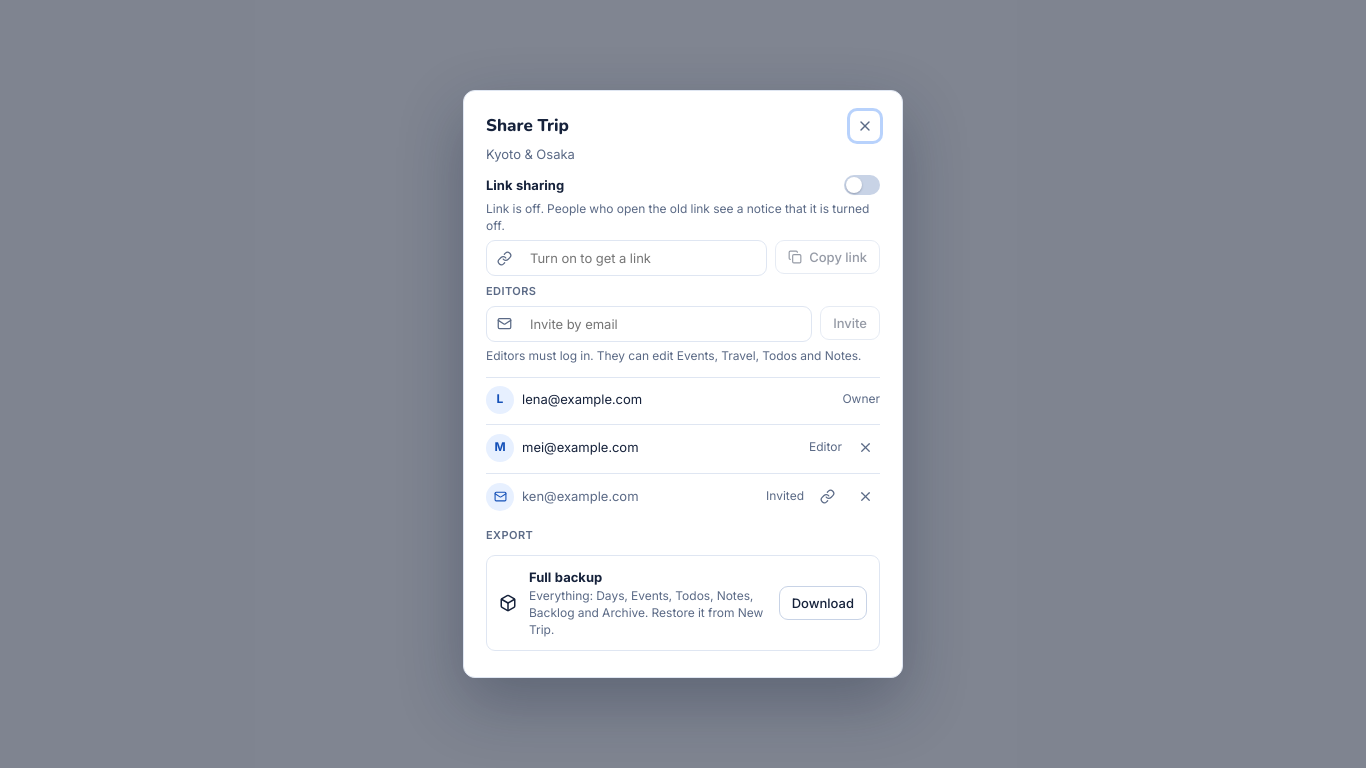
Scenario: ShareDialog › does not send an address that is not an email
Expected: the text "mei@example.com" is shown, [522,439,638,455]
Type "not-an-email" into the field with placeholder "Invite by email". click: x=661, y=324
box: [520,307,801,341]
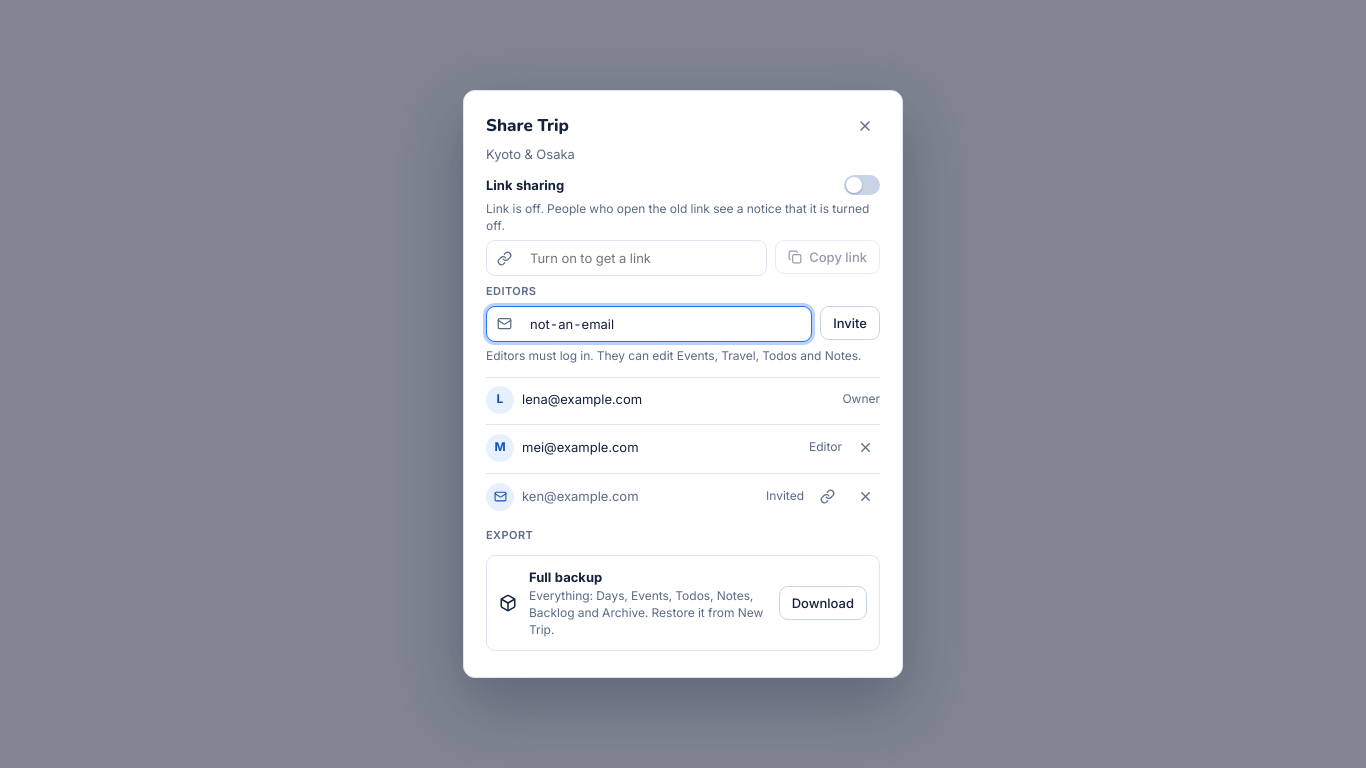
Click the button "Invite". click: x=850, y=323
box: [820,306,880,340]
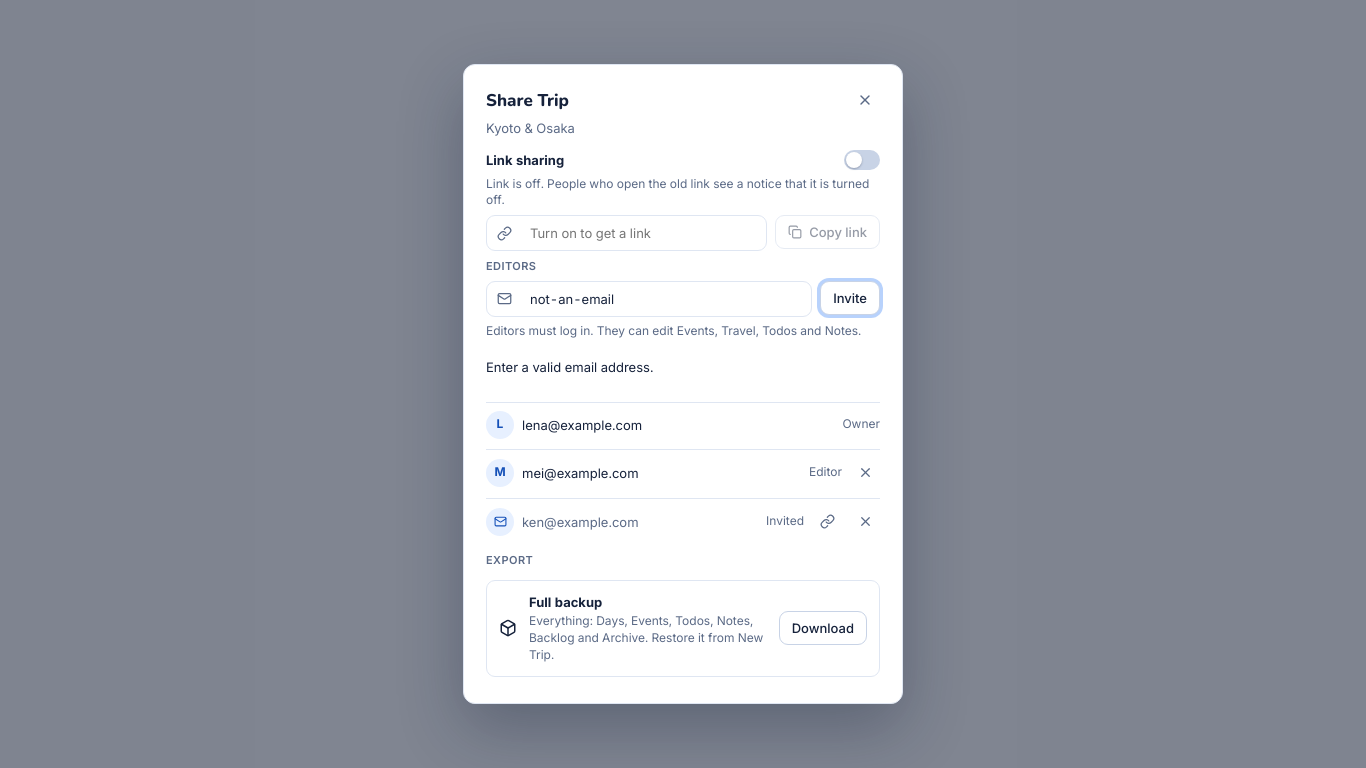
Result: the message reads "Enter a valid email address." at [486,359,653,375]
